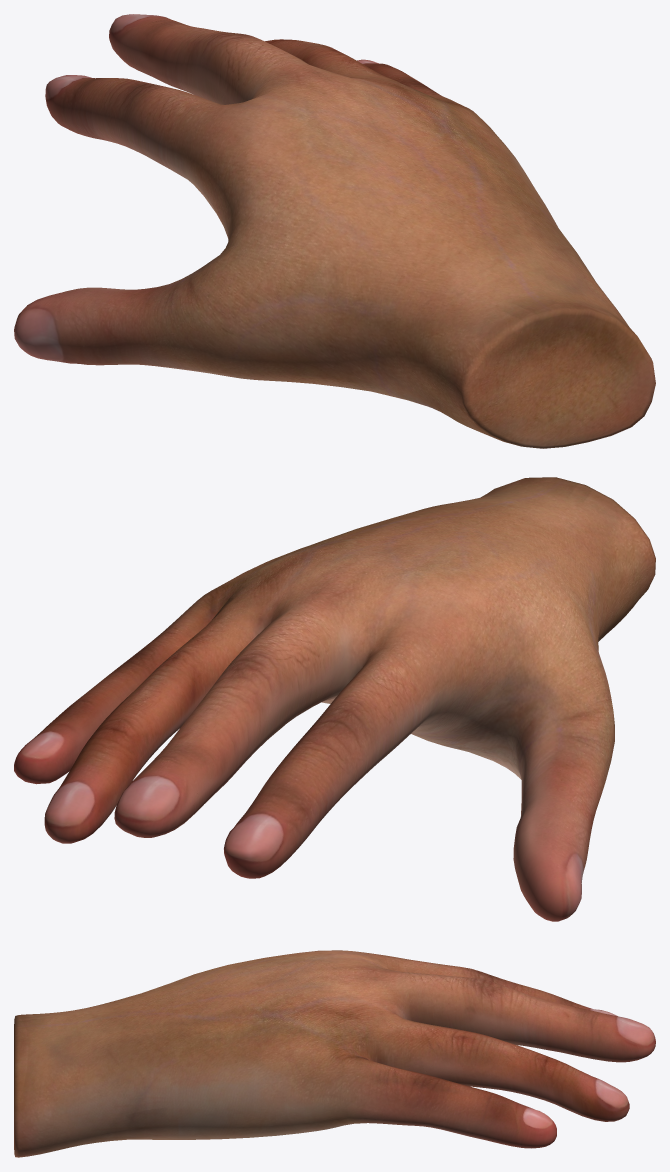
The picture shows the model from 3 angles, top to bottom: view 1: azimuth 30°, elevation 25°; view 2: azimuth 150°, elevation 25°; view 3: azimuth 270°, elevation 25°; orthographic projection. The views are drawn at different scales.
Visible parts, largest first — view 1: Hand_Med; view 2: Hand_Med; view 3: Hand_Med.
Part boxes in pixels (x1,y1,x2,y2): Hand_Med: (14, 14, 655, 448); Hand_Med: (14, 477, 655, 921); Hand_Med: (14, 950, 655, 1157).
Size of the model in its own units: 15.7 by 7.96 by 25.27.
Materials: 1 (1 with a texture image).
